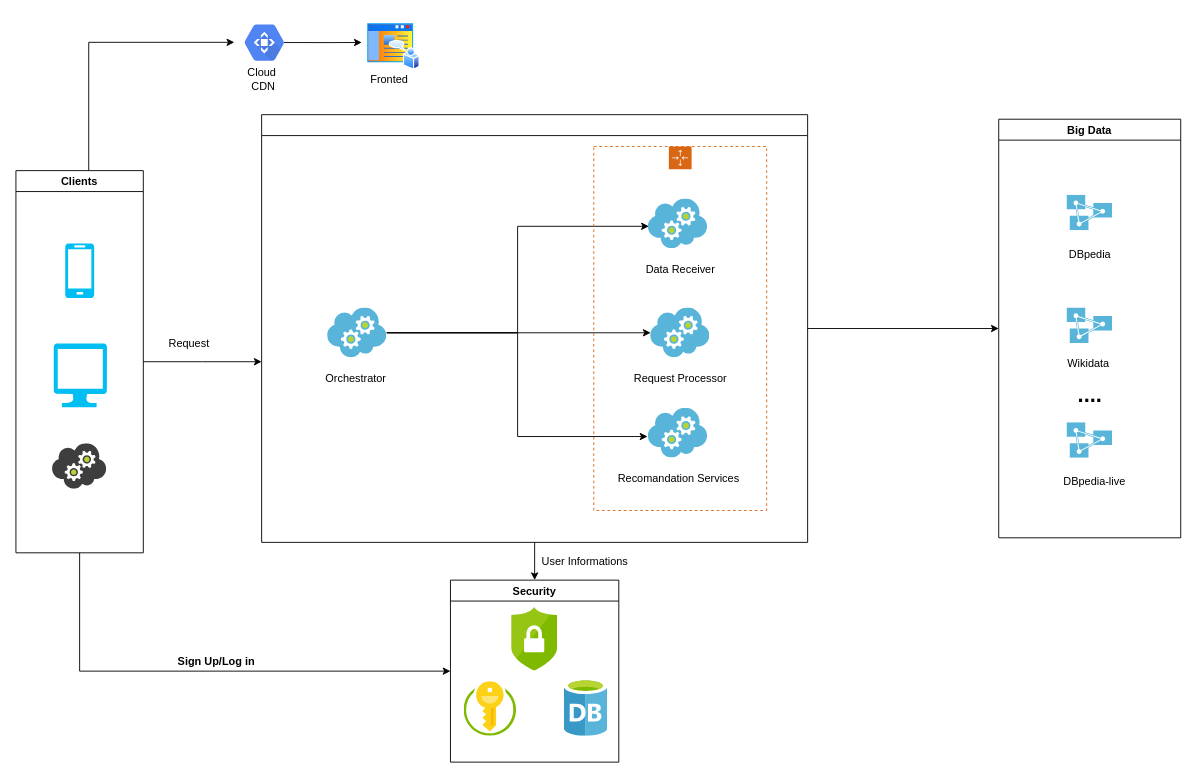
Image size: 1197x778. Some labels were removed from this diagram. Here are the shapes that lost their labels. From the top down, the box of each, then its label:
(261, 114, 808, 542): Request Handler
(593, 146, 767, 511): Auto Scaling group
